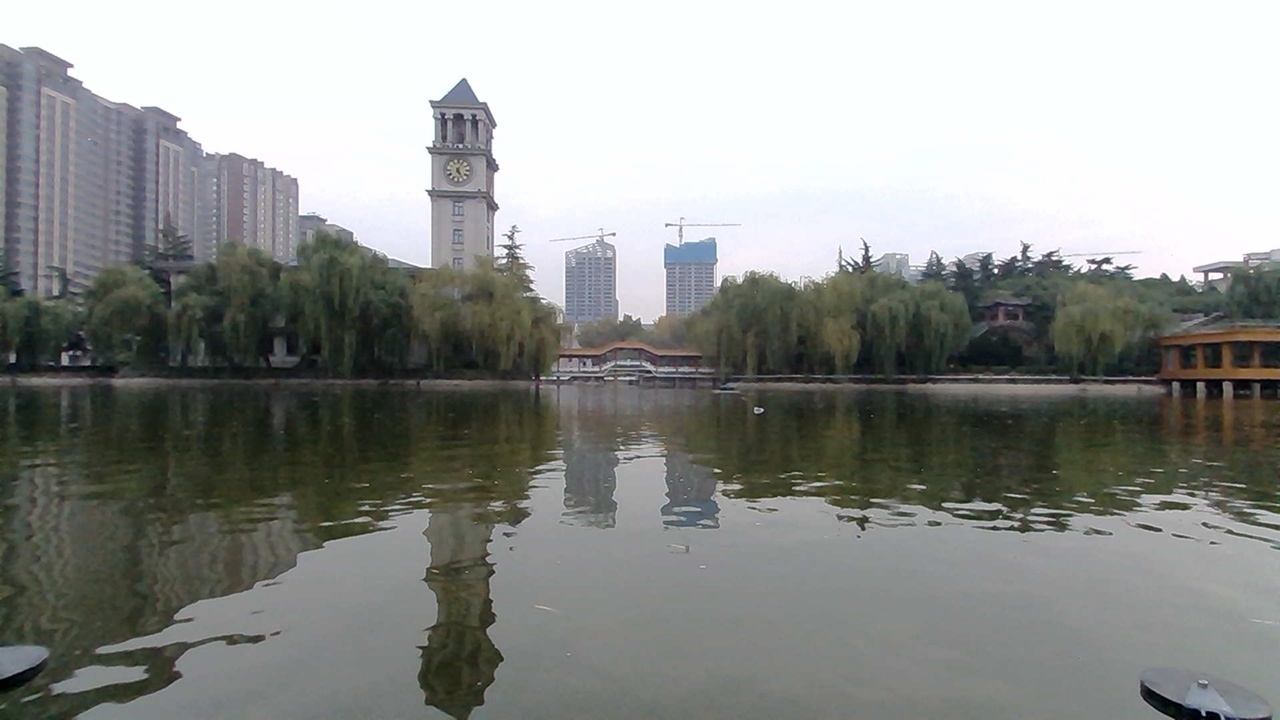bottle: (742, 397, 788, 421)
